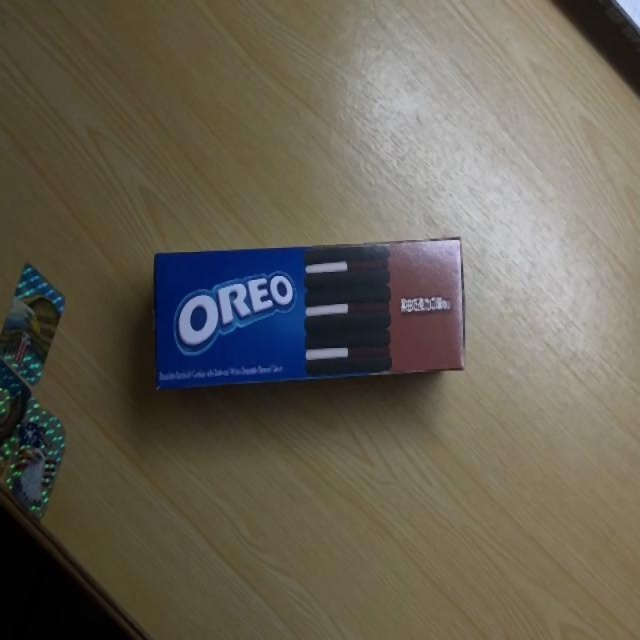Oreo: (152, 237, 468, 394)
